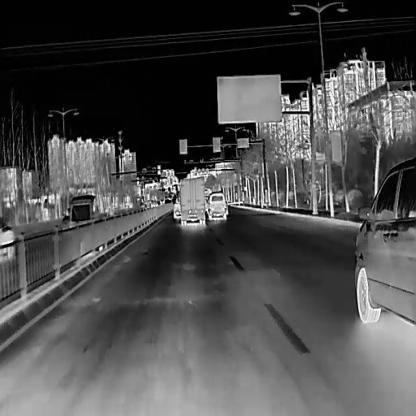car: (354, 153, 416, 327), (206, 190, 226, 219), (173, 190, 180, 219), (150, 200, 158, 210)
truck: (67, 193, 106, 232), (178, 176, 205, 225)
